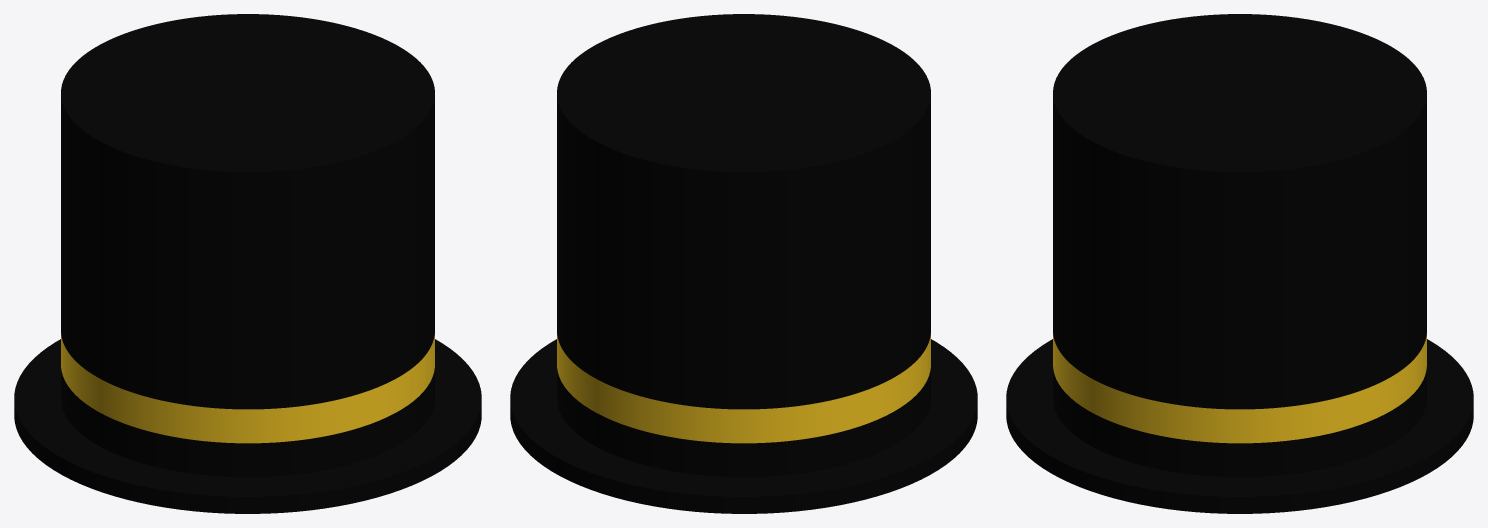
Rendered from zylinderhut.glb.
3 renders of one model, left to right at view 1: azimuth 30°, elevation 25°; view 2: azimuth 150°, elevation 25°; view 3: azimuth 270°, elevation 25°, orthographic.
Visible parts, largest first — view 1: Rohr 4, Zylinder, Rohr, Rohr 2, Rohr 3; view 2: Rohr 4, Zylinder, Rohr, Rohr 2, Rohr 3; view 3: Rohr 4, Zylinder, Rohr, Rohr 2, Rohr 3.
Part boxes in pixels (x1,y1,x2,y2): Rohr 4: [61, 14, 434, 409]; Zylinder: [62, 18, 433, 188]; Rohr: [14, 339, 481, 513]; Rohr 2: [61, 368, 434, 477]; Rohr 3: [61, 334, 434, 443]; Rohr 4: [557, 14, 930, 409]; Zylinder: [558, 18, 929, 188]; Rohr: [510, 339, 977, 513]; Rohr 2: [557, 368, 930, 477]; Rohr 3: [557, 334, 930, 443]; Rohr 4: [1053, 14, 1426, 409]; Zylinder: [1055, 28, 1424, 188]; Rohr: [1006, 339, 1473, 513]; Rohr 2: [1053, 367, 1426, 477]; Rohr 3: [1053, 334, 1426, 443].
Bounding box in the file's own units: 0.25 × 0.19 × 0.25.
